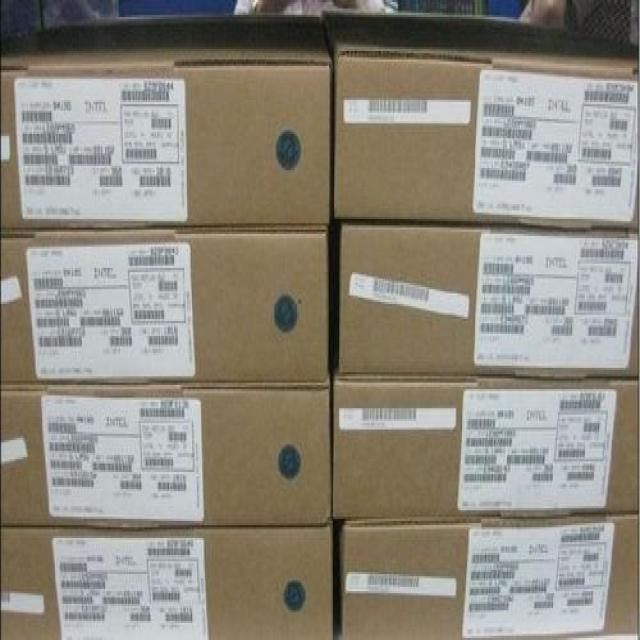box: (0, 13, 334, 232), (320, 13, 640, 232), (0, 225, 328, 385), (0, 383, 332, 529), (339, 221, 640, 381), (333, 368, 640, 519), (0, 523, 333, 640), (340, 512, 640, 640)
